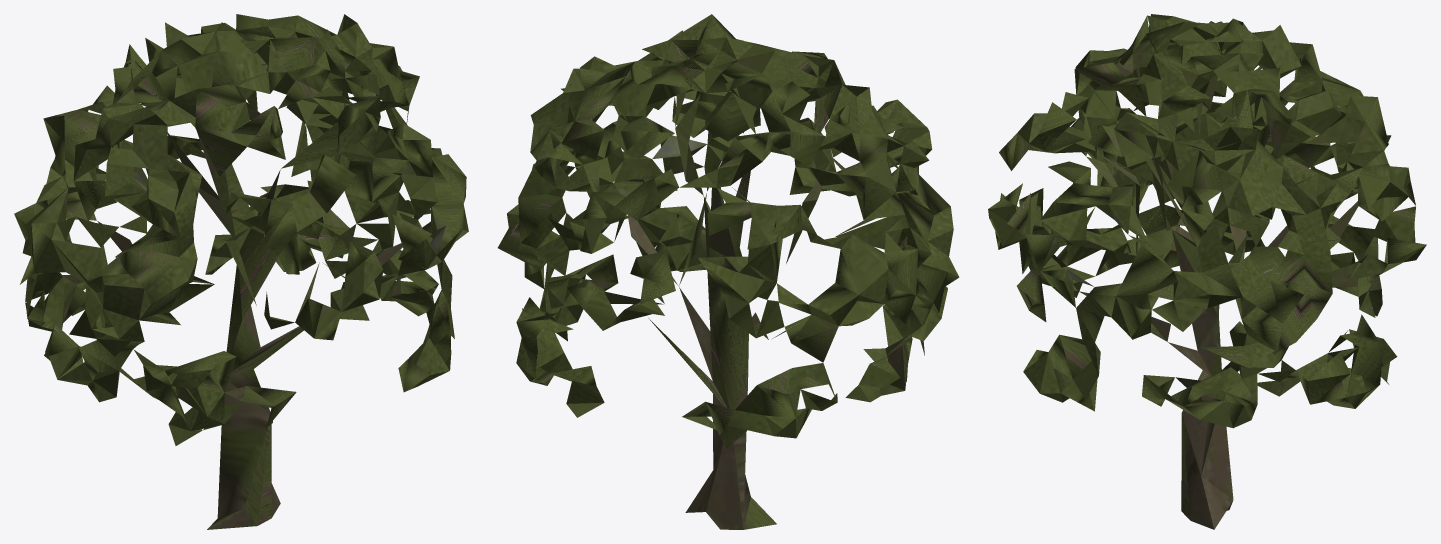
File: broadleaf_a.glb
3 renders of one model, left to right at view 1: azimuth 30°, elevation 25°; view 2: azimuth 150°, elevation 25°; view 3: azimuth 270°, elevation 25°, orthographic. The views are drawn at different scales.
Bounding box in the file's own units: 1.58 × 1.85 × 1.53.
1 material, 1 textured.
